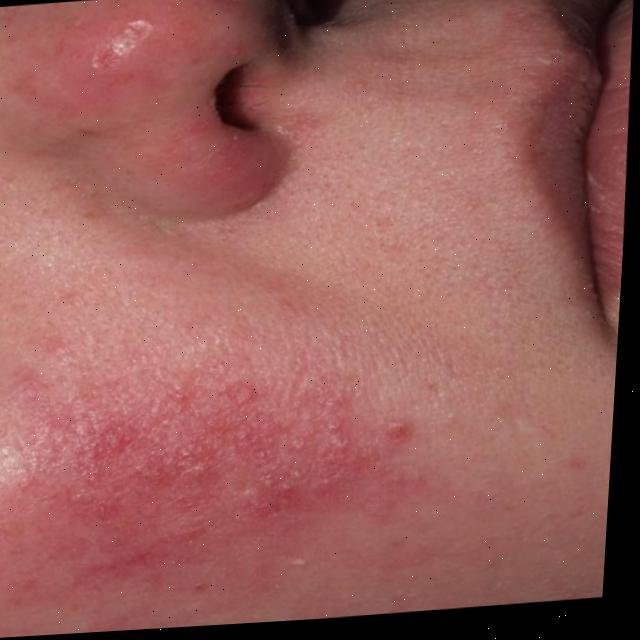Rosacea: (0, 364, 340, 639), (26, 17, 173, 147)
